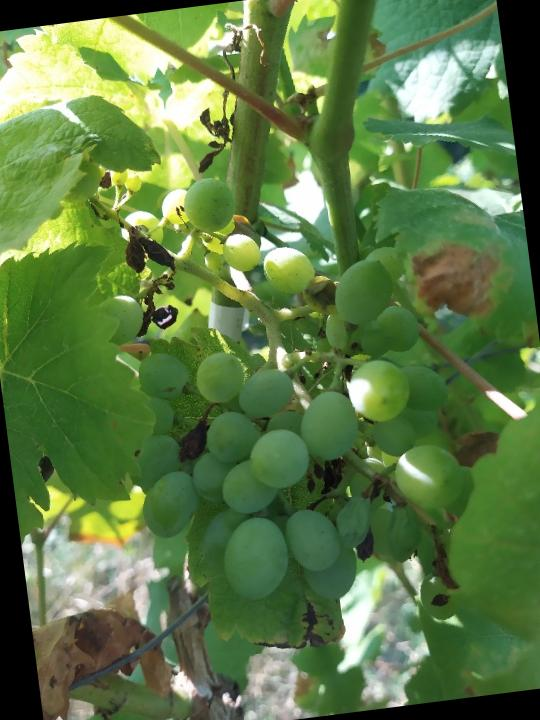grape: (87, 149, 483, 626)
